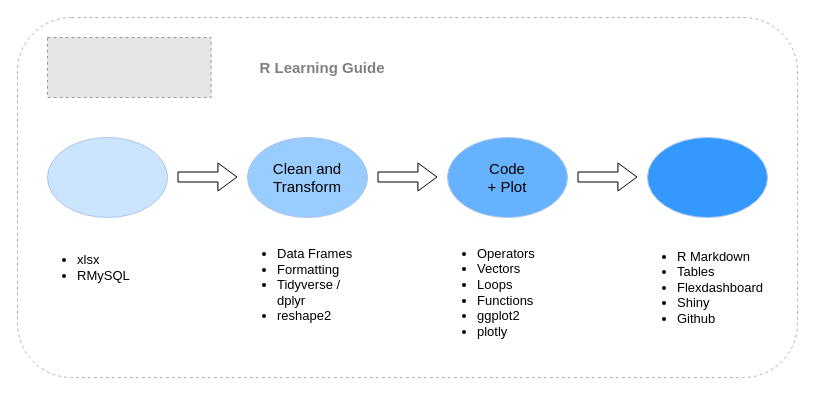
The diagram is 815 pixels wide and 395 high, and some of its shapes have lost their labels. Grey dashed boxes stand in for pictures. Each missing label, with the centre of its shape:
"Access and Import Data" goes at (107,177).
"Publish" goes at (707,177).
